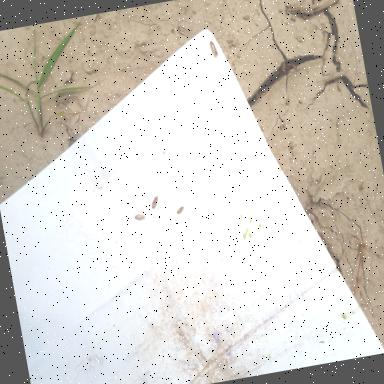pbw: (208, 40, 219, 59), (150, 190, 160, 209), (134, 212, 146, 221), (176, 206, 186, 214)
